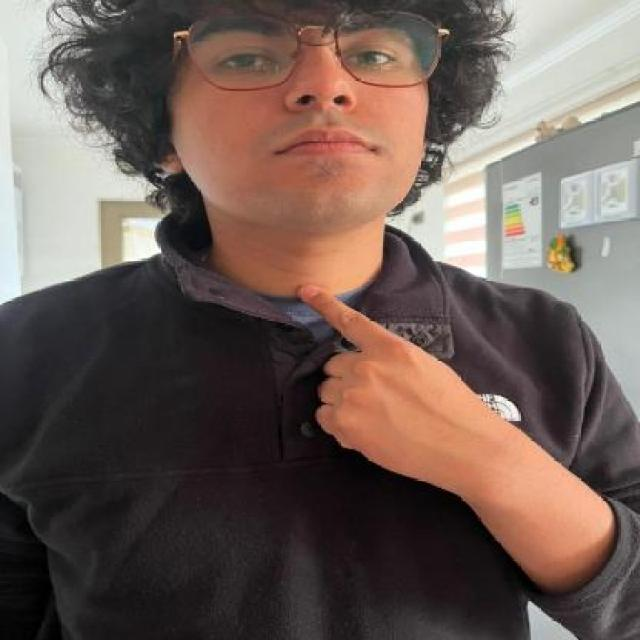Q: (267, 259, 528, 496)
